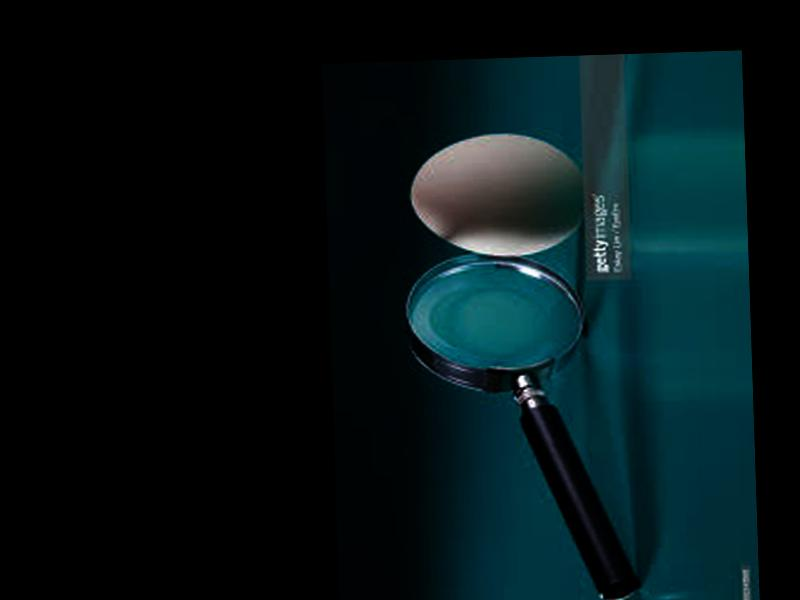Eggs: (407, 130, 588, 260)
